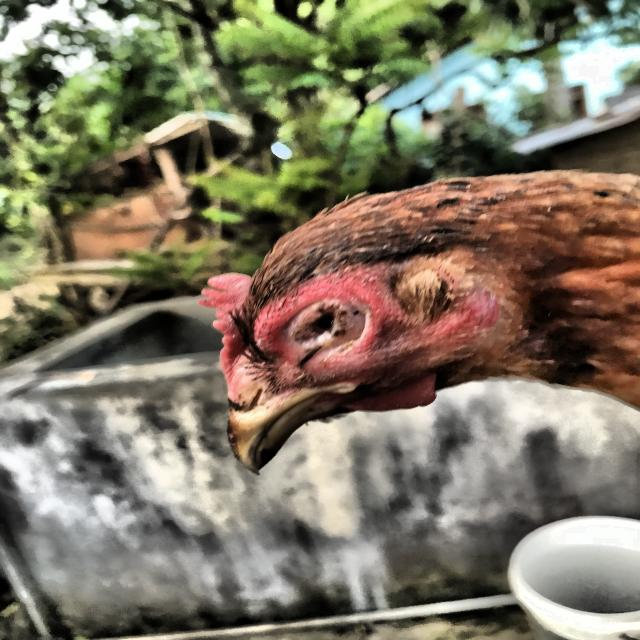Coryza: (160, 214, 627, 477)
